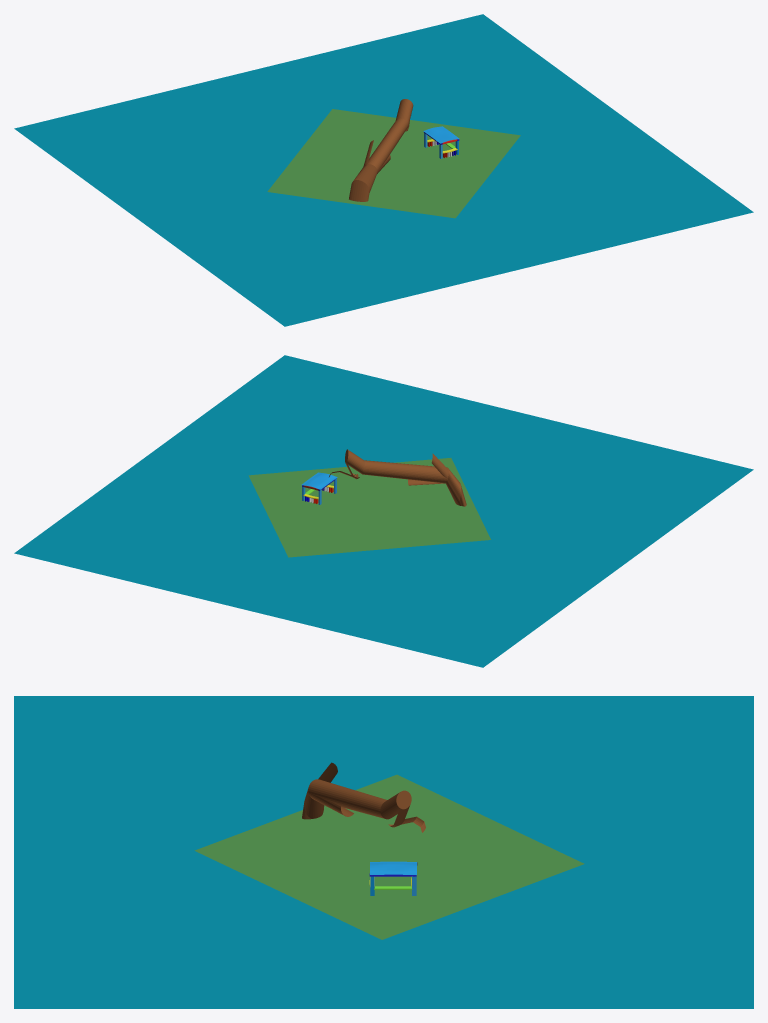
Rendered from coleta.glb.
3 views of the same model, one above another, from view 1: azimuth 30°, elevation 25°; view 2: azimuth 150°, elevation 25°; view 3: azimuth 270°, elevation 25° (orthographic). The views are drawn at different scales.
Parts seen in each view (by area): view 1: Plane, Plane.001, Cylinder; view 2: Plane, Plane.001, Cylinder; view 3: Plane, Plane.001, Cylinder, Plane.002.
Boxes of the visible parts, <box> form: Plane: <box>14,14,753,326</box>; Plane.001: <box>267,109,520,218</box>; Cylinder: <box>349,99,413,201</box>; Plane: <box>14,355,753,667</box>; Plane.001: <box>248,458,490,557</box>; Cylinder: <box>329,449,466,506</box>; Plane: <box>14,696,753,1008</box>; Plane.001: <box>194,774,584,939</box>; Cylinder: <box>302,762,425,832</box>; Plane.002: <box>370,861,416,874</box>.
Size of the model in its own units: 43.9 by 6.41 by 43.9.
